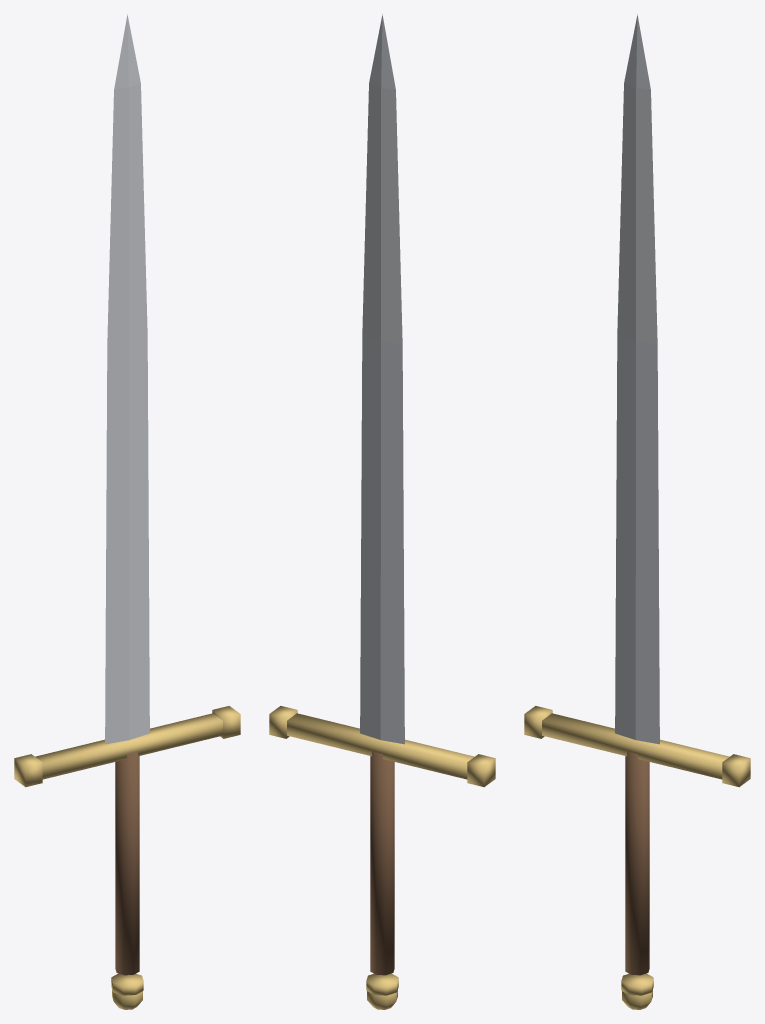
File: arme_epee_deux_mains.glb
3 renders of one model, left to right at view 1: azimuth 30°, elevation 25°; view 2: azimuth 150°, elevation 25°; view 3: azimuth 330°, elevation 25°, orthographic.
Visible parts, largest first — view 1: epee_deux_mains_lame, epee_deux_mains_garde, epee_deux_mains_poignee; view 2: epee_deux_mains_lame, epee_deux_mains_garde, epee_deux_mains_poignee; view 3: epee_deux_mains_lame, epee_deux_mains_garde, epee_deux_mains_poignee.
Part boxes in pixels (box(x1,y1,x2,y2)): epee_deux_mains_lame: box(105, 14, 149, 744); epee_deux_mains_garde: box(14, 706, 240, 1009); epee_deux_mains_poignee: box(115, 751, 139, 975); epee_deux_mains_lame: box(360, 14, 404, 744); epee_deux_mains_garde: box(269, 706, 495, 1009); epee_deux_mains_poignee: box(370, 751, 394, 975); epee_deux_mains_lame: box(615, 14, 659, 744); epee_deux_mains_garde: box(524, 706, 750, 1009); epee_deux_mains_poignee: box(625, 751, 649, 975).
Bounding box in the file's own units: 0.326 × 1.44 × 0.044.
